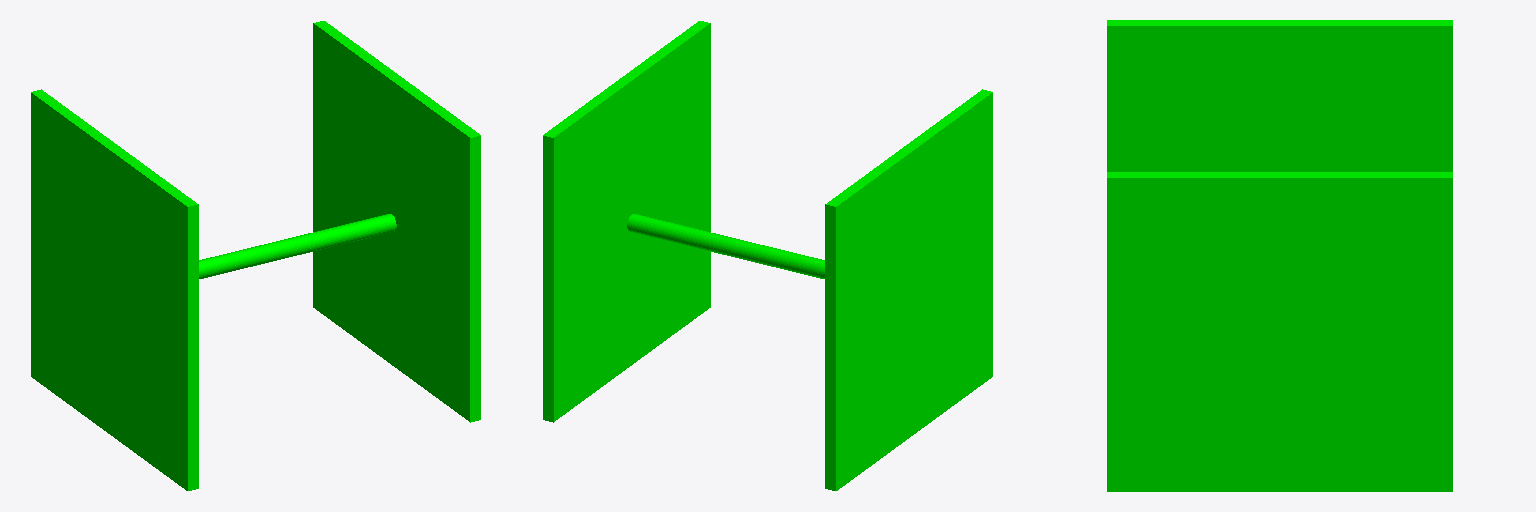
robot.urdf — plane:
<?xml version="0.0" ?>
<robot name="plane">
    <link name="base_link">
    <inertial>
      <origin rpy="0 1.57 0" xyz="0.26 0 0.25"/>
       <mass value="0.01"/>
       <inertia ixx="0" ixy="0" ixz="0" iyy="0" iyz="0" izz="0"/>
    </inertial>
      <visual>
        <origin rpy="0 1.57 0" xyz="0.26 0 0.25"/>
        <geometry>
          <cylinder length="0.5" radius="0.015"/>
        </geometry>
        <material name="green">
        <color rgba="0 1 0 1"/>
      </material>
      </visual>
      <collision>
      <origin rpy="0 1.57 0" xyz="0.26 0 0.25"/>
          <geometry>
            <cylinder length="0.5" radius="0.015"/>
          </geometry>
      </collision>
    </link>
    
    <link name="bell1">
    <inertial>
      <origin rpy="0 0 0" xyz="0 0 0.25"/>
       <mass value="0.01"/>
       <inertia ixx="0" ixy="0" ixz="0" iyy="0" iyz="0" izz="0"/>
    </inertial>
      <visual>
        <origin rpy="0 0 0" xyz="0 0 0.25"/>
        <geometry>
          <box size="0.02 0.5 0.5"/>
        </geometry>
        <material name="green">
        <color rgba="0 1 0 1"/>
      </material>
      </visual>
      <collision>
      <origin rpy="0 0 0" xyz="0 0 0.25"/>
          <geometry>
            <box size="0.02 0.5 0.5"/>
          </geometry>
      </collision>
      </link>
      
      
       <joint name="bell1_link" type="continuous">
		<axis xyz="1 0 0"/>
		<parent link="bell1"/>
		<child link="base_link"/>
		<origin rpy="0 0 0" xyz="0 0 0"/>
		<limit effort="100" velocity="100"/>
		<joint_properties damping=".0" friction=".0"/>
	</joint>
    
    
    <link name="bell2">
    <inertial>
      <origin rpy="0 0 0" xyz="0 0 0.25"/>
       <mass value="0.01"/>
       <inertia ixx="0" ixy="0" ixz="0" iyy="0" iyz="0" izz="0"/>
    </inertial>
      <visual>
        <origin rpy="0 0 0" xyz="0 0 0.25"/>
        <geometry>
          <box size="0.02 0.5 0.5"/>
        </geometry>
        <material name="green">
        <color rgba="0 1 0 1"/>
      </material>
      </visual>
      <collision>
      <origin rpy="0 0 0" xyz="0 0 0.25"/>
          <geometry>
            <box size="0.02 0.5 0.5"/>
          </geometry>
      </collision>
      </link>
      
      <joint name="bell2_link" type="continuous">
		<axis xyz="1 0 0"/>
		<parent link="base_link"/>
		<child link="bell2"/>
		<origin rpy="0 0 0" xyz="0.52 0 0"/>
		<limit effort="100" velocity="100"/>
		<joint_properties damping=".0" friction=".0"/>
	</joint>
</robot>

--- What the picture shows (computed from the rendered views, not written in the file) ---
The picture shows the robot from 3 angles, left to right: view 1: azimuth 30°, elevation 25°; view 2: azimuth 150°, elevation 25°; view 3: azimuth 270°, elevation 25°; orthographic projection.
Model plane with 3 links and 2 joints (2 continuous), rooted at bell1, posed every joint at zero.
Links seen in each view (by area): view 1: bell1, bell2, base_link; view 2: bell1, bell2, base_link; view 3: bell2, bell1.
Boxes of the visible links, box(x1,y1,x2,y2) form: bell1: box(31, 89, 198, 490); bell2: box(313, 21, 480, 422); base_link: box(199, 214, 396, 278); bell1: box(825, 89, 992, 490); bell2: box(543, 21, 710, 422); base_link: box(627, 214, 824, 278); bell2: box(1107, 172, 1452, 491); bell1: box(1107, 20, 1452, 171).
Size in the robot's own frame: 0.54 by 0.5 by 0.5 metres.
Geometry: primitives only (box / cylinder / sphere), no mesh files.